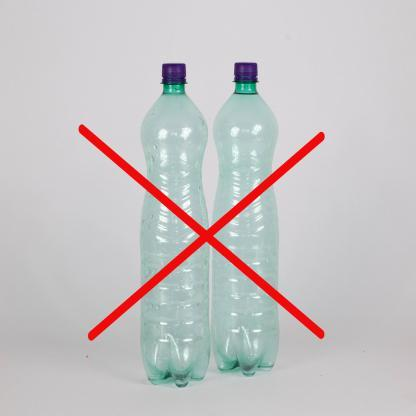bottle: (134, 49, 212, 390), (212, 48, 280, 384)
